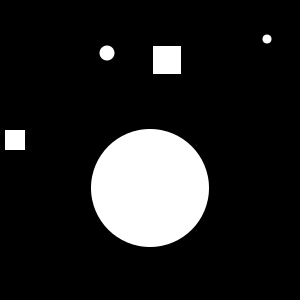circle: (153, 46, 181, 74), (5, 130, 25, 150)
rectangle: (91, 129, 209, 247), (100, 46, 115, 60), (262, 34, 272, 44)
